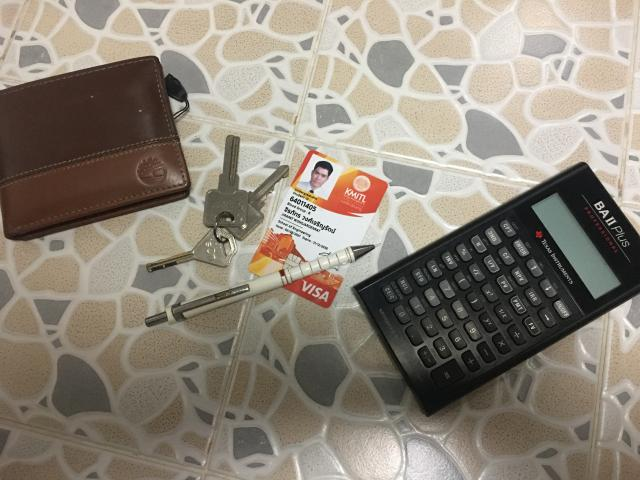Keys: (146, 135, 289, 271)
Pen: (145, 245, 375, 326)
Wallet: (0, 56, 190, 240)
